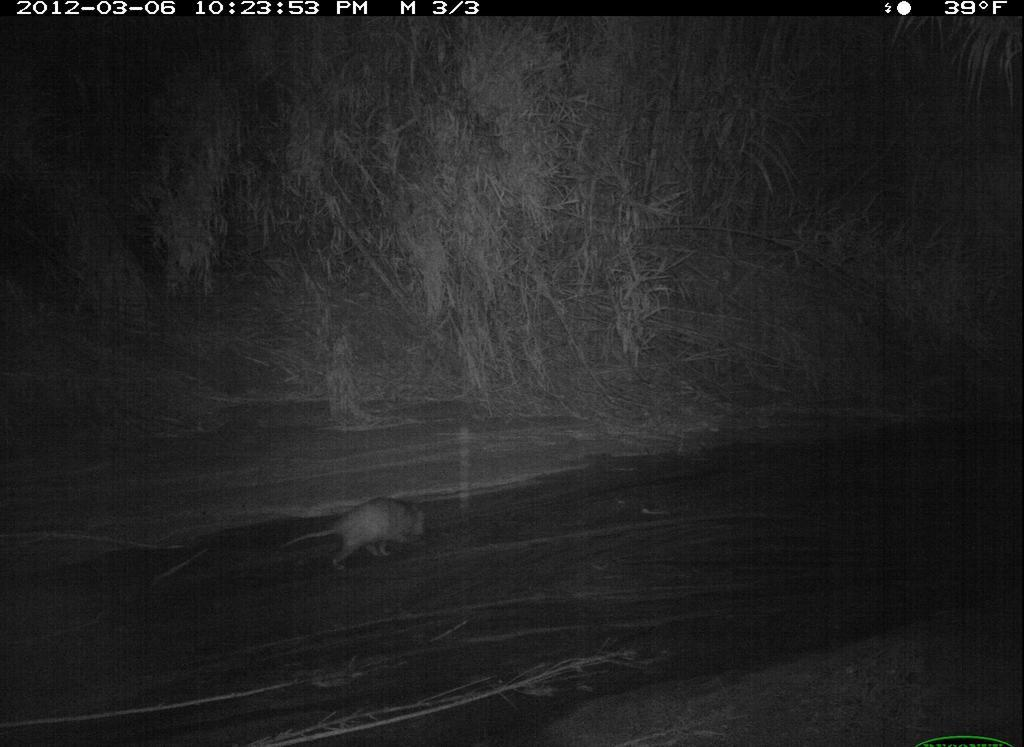opossum: (277, 493, 437, 570)
